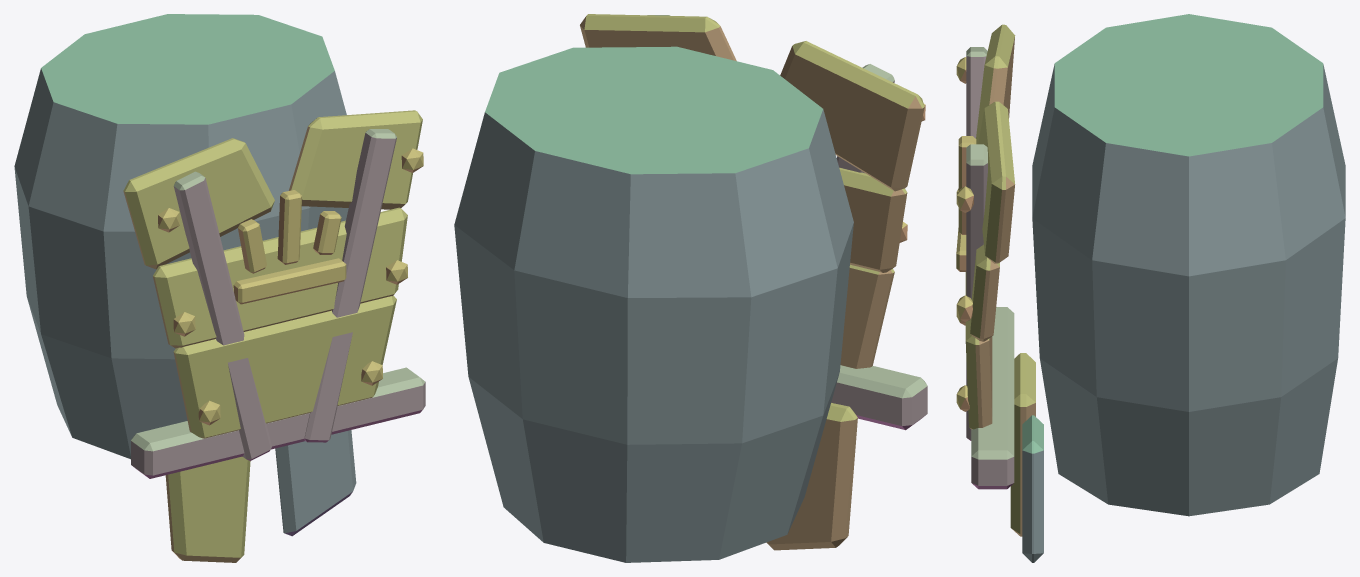
Rendered from npc_module_chest_plate_hero_v01.glb.
3 renders of one model, left to right at view 1: azimuth 30°, elevation 25°; view 2: azimuth 150°, elevation 25°; view 3: azimuth 270°, elevation 25°, orthographic. The views are drawn at different scales.
Visible parts, largest first — view 1: GEO_npc_module_chest_plate_hero_v01; view 2: GEO_npc_module_chest_plate_hero_v01; view 3: GEO_npc_module_chest_plate_hero_v01.
Boxes of the visible parts, <box> form: GEO_npc_module_chest_plate_hero_v01: <box>14,14,425,562</box>; GEO_npc_module_chest_plate_hero_v01: <box>454,14,927,562</box>; GEO_npc_module_chest_plate_hero_v01: <box>956,14,1345,562</box>.
Size of the model in its own units: 1.02 by 1.33 by 0.9926.
